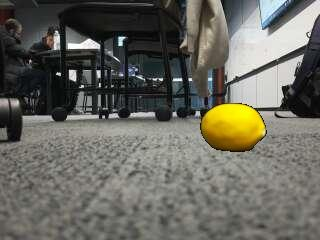lemon: (201, 104, 265, 151)
